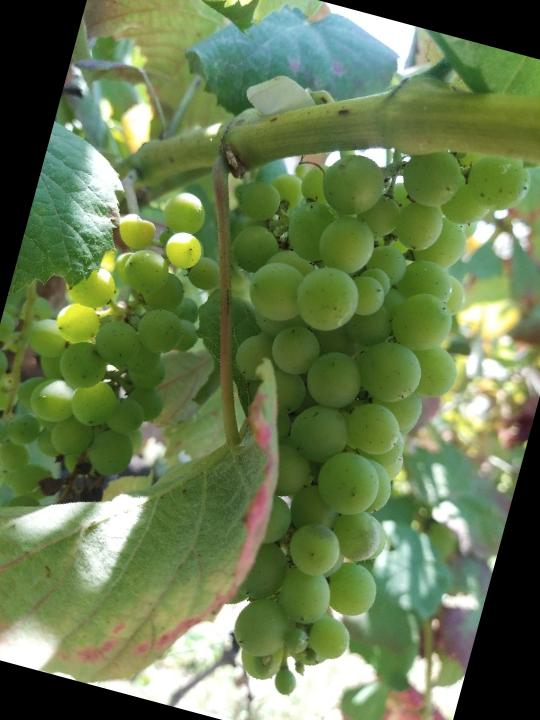grape: (111, 92, 535, 720), (0, 163, 230, 527)
